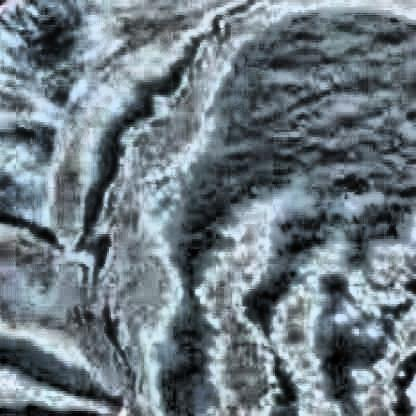sheen: (0, 0, 256, 416), (197, 200, 280, 416), (353, 228, 416, 416)
